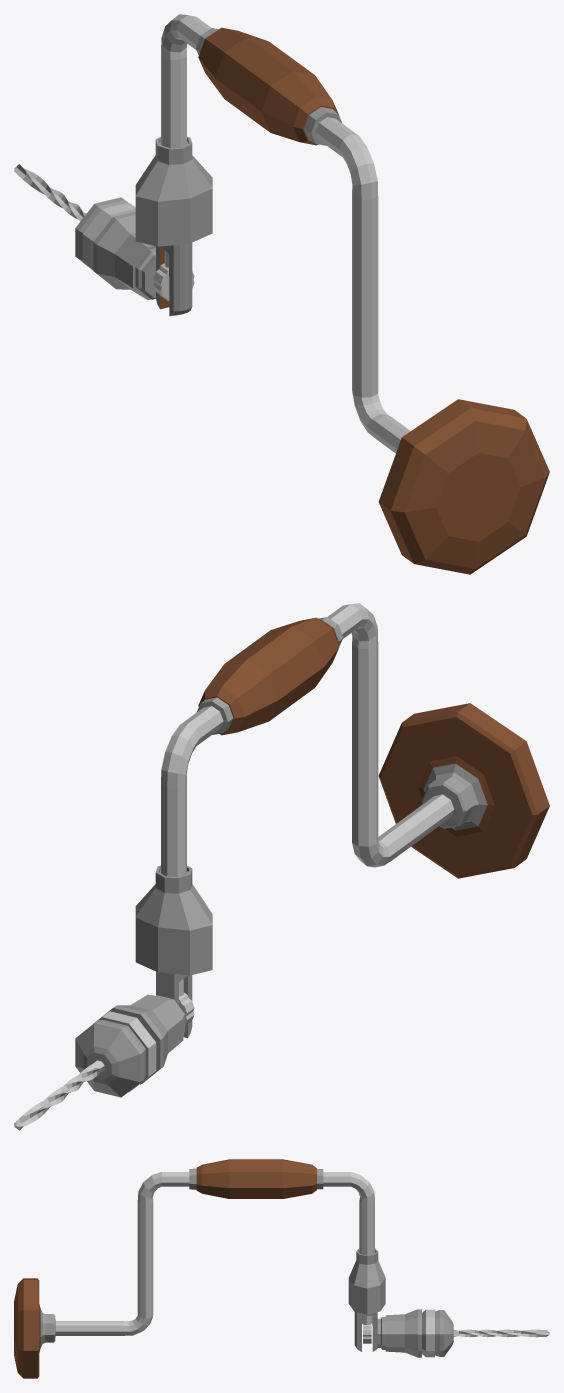
File: brace01.gltf
3 views of the same model, one above another, from view 1: azimuth 30°, elevation 25°; view 2: azimuth 150°, elevation 25°; view 3: azimuth 270°, elevation 25° (orthographic). The views are drawn at different scales.
Visible parts, largest first — view 1: Cylinder.002; view 2: Cylinder.002; view 3: Cylinder.002.
Part boxes in pixels (x1,y1,x2,y2): Cylinder.002: (14, 14, 549, 574); Cylinder.002: (14, 603, 549, 1130); Cylinder.002: (14, 1159, 549, 1378).
Bounding box in the file's own units: 0.1123 × 0.2518 × 0.5641.
Materials: 1 (1 with a texture image).
